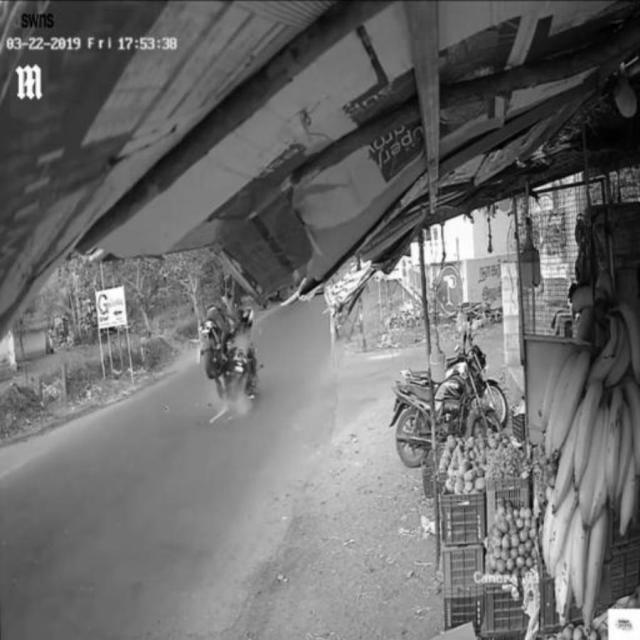accident: (196, 292, 264, 429)
vehicle: (386, 362, 504, 465)
